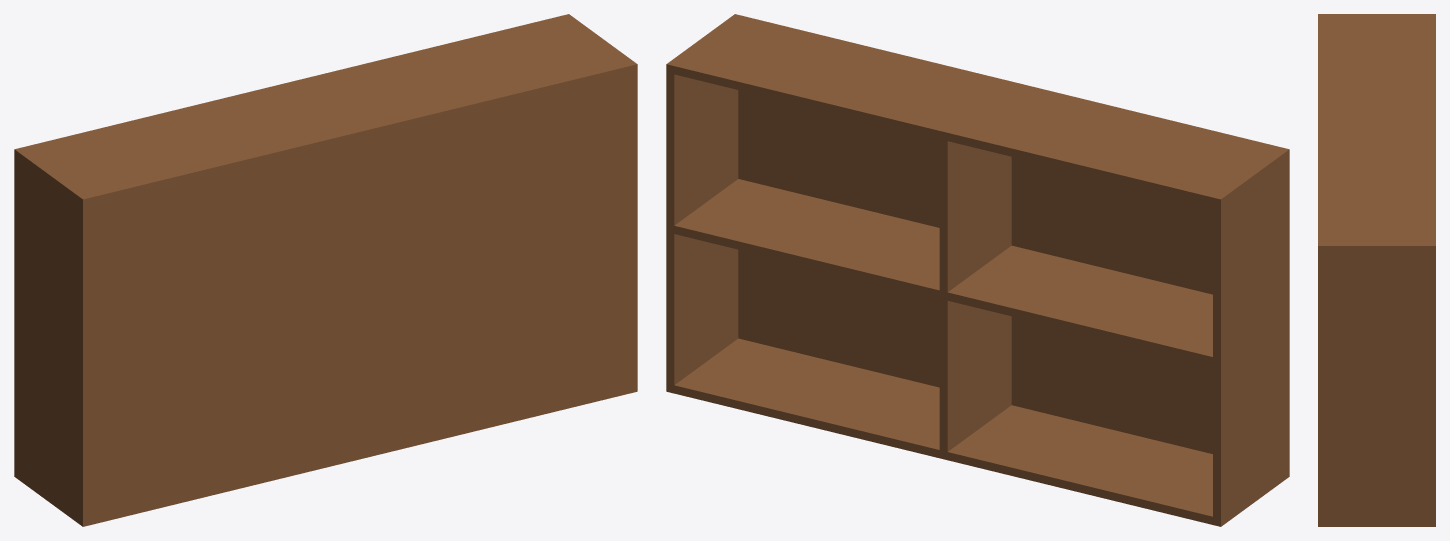
The model's file is parametric-wall-shelf-1st-1400x0300x0790.glb.
3 views of the same model, side by side, from view 1: azimuth 30°, elevation 25°; view 2: azimuth 150°, elevation 25°; view 3: azimuth 270°, elevation 25° (orthographic). The views are drawn at different scales.
Parts seen in each view (by area): view 1: backboard, top, end:-1; view 2: backboard, top, bottom, shelf, end:-1, end:1, divider:1; view 3: end:1, top, backboard, end:-1.
Boxes of the visible parts, left/top/right/bottom form: backboard: left=78, top=61, right=637, bottom=526; top: left=23, top=16, right=624, bottom=193; end:-1: left=14, top=147, right=85, bottom=522; backboard: left=731, top=14, right=1289, bottom=479; top: left=674, top=19, right=1276, bottom=205; bottom: left=674, top=338, right=1212, bottom=524; shelf: left=674, top=179, right=1212, bottom=365; end:-1: left=1213, top=150, right=1284, bottom=526; end:1: left=666, top=17, right=738, bottom=393; divider:1: left=939, top=139, right=1011, bottom=451; end:1: left=1326, top=242, right=1435, bottom=526; top: left=1326, top=17, right=1435, bottom=242; backboard: left=1318, top=14, right=1325, bottom=526; end:-1: left=1326, top=14, right=1435, bottom=17.
Bounding box in the file's own units: 1.4 × 0.79 × 0.3.
